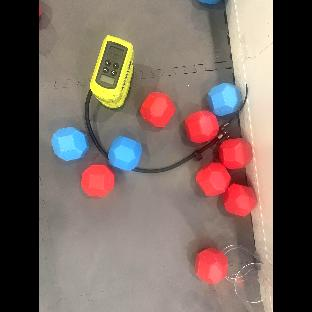V5_BLUE: (52, 125, 89, 161), (106, 132, 141, 170), (207, 82, 242, 116), (192, 0, 228, 5)
V5_RED: (193, 246, 232, 287), (141, 86, 174, 127), (221, 182, 256, 217), (79, 164, 116, 197), (180, 111, 219, 141), (195, 162, 230, 195), (218, 138, 257, 167), (39, 4, 46, 24)
